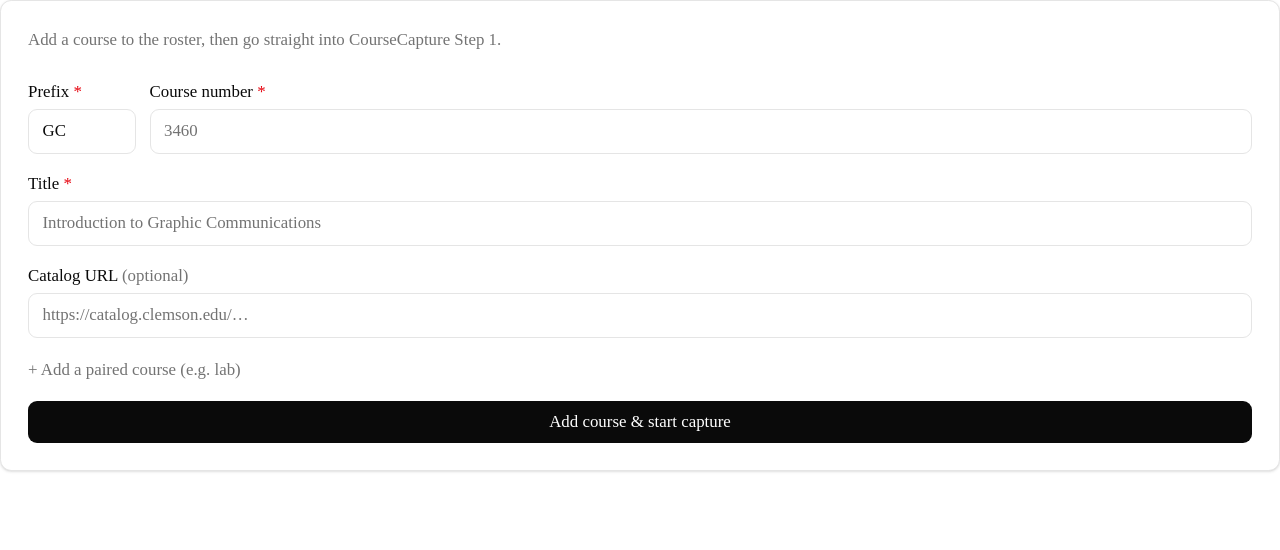
Test: NewCourseForm › requires prefix, number, and title
Click the button "Add course & start capture" at (640, 422), box [28,400,1252,443]
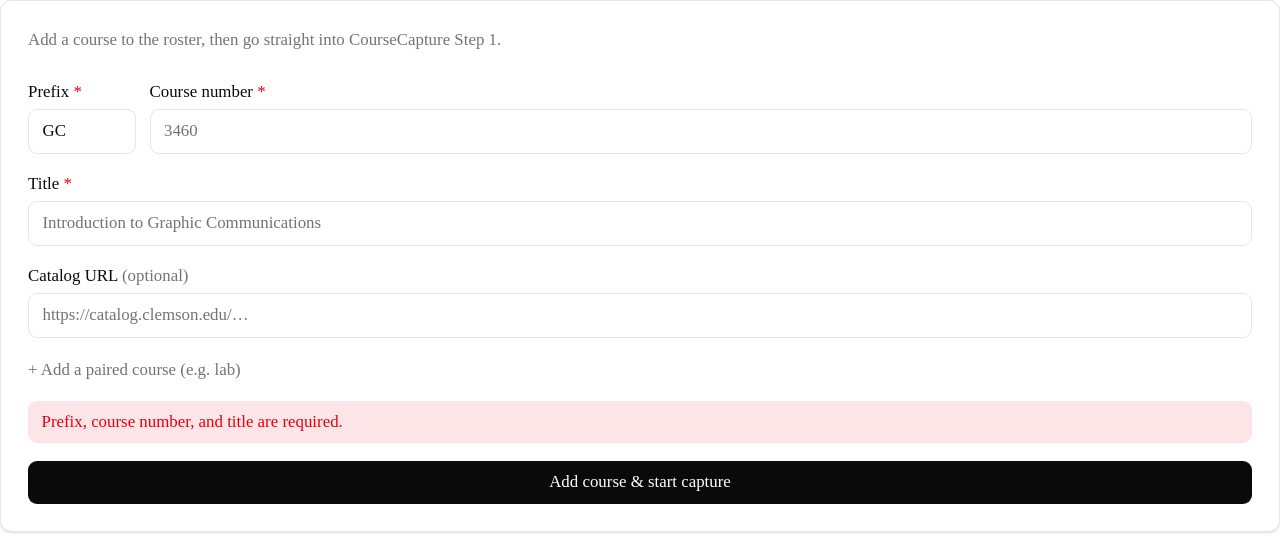
Expected: the text "Prefix, course number, and title are required." is shown, [28,400,1252,443]
